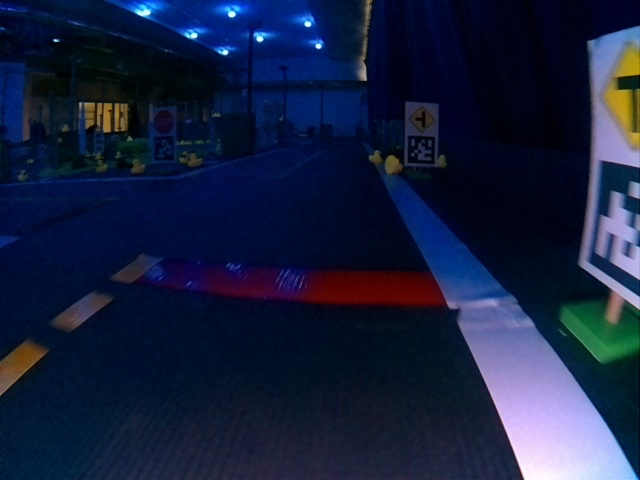Duckie: (385, 157, 400, 172), (368, 149, 381, 162), (188, 153, 201, 166), (130, 160, 144, 171), (178, 151, 188, 163), (94, 162, 106, 171), (17, 170, 27, 179), (441, 156, 447, 167)
Intersection sign: (405, 104, 438, 133)
QR code: (581, 163, 637, 297), (404, 136, 436, 166), (152, 136, 172, 159)
Stop sign: (153, 109, 173, 133)
